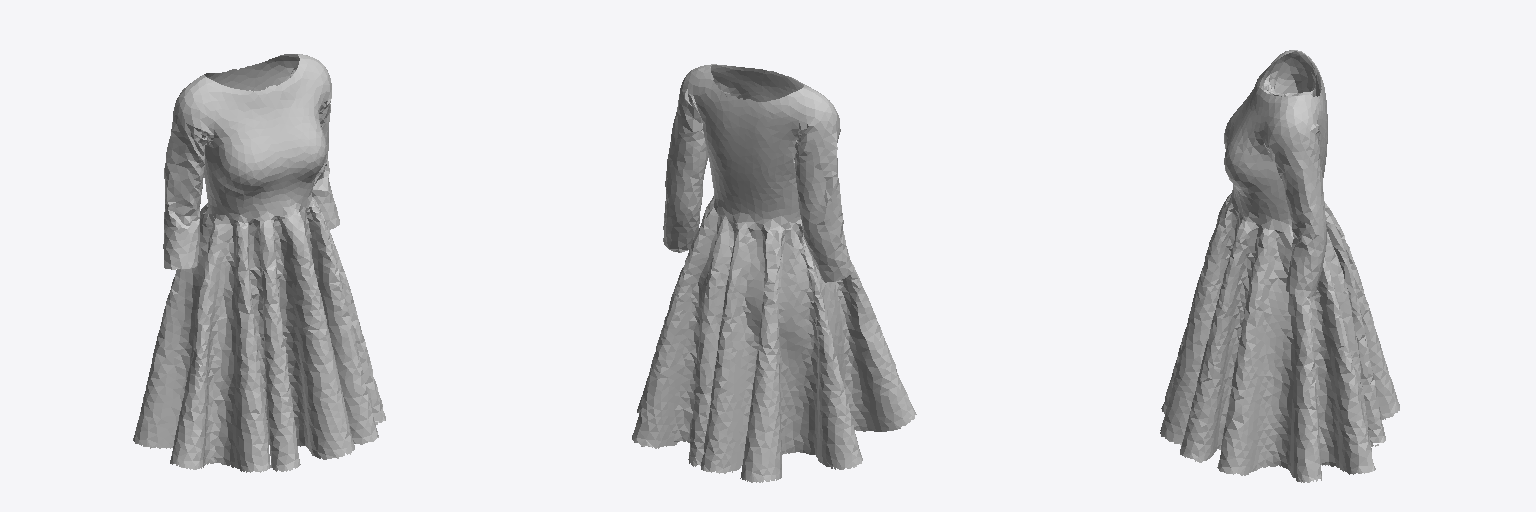
The model's file is dress-v7k-f14k.obj.
3 views of the same model, side by side, from view 1: azimuth 30°, elevation 25°; view 2: azimuth 150°, elevation 25°; view 3: azimuth 270°, elevation 25° (orthographic).
Size of the model in its own units: 23.76 by 36.31 by 21.5.